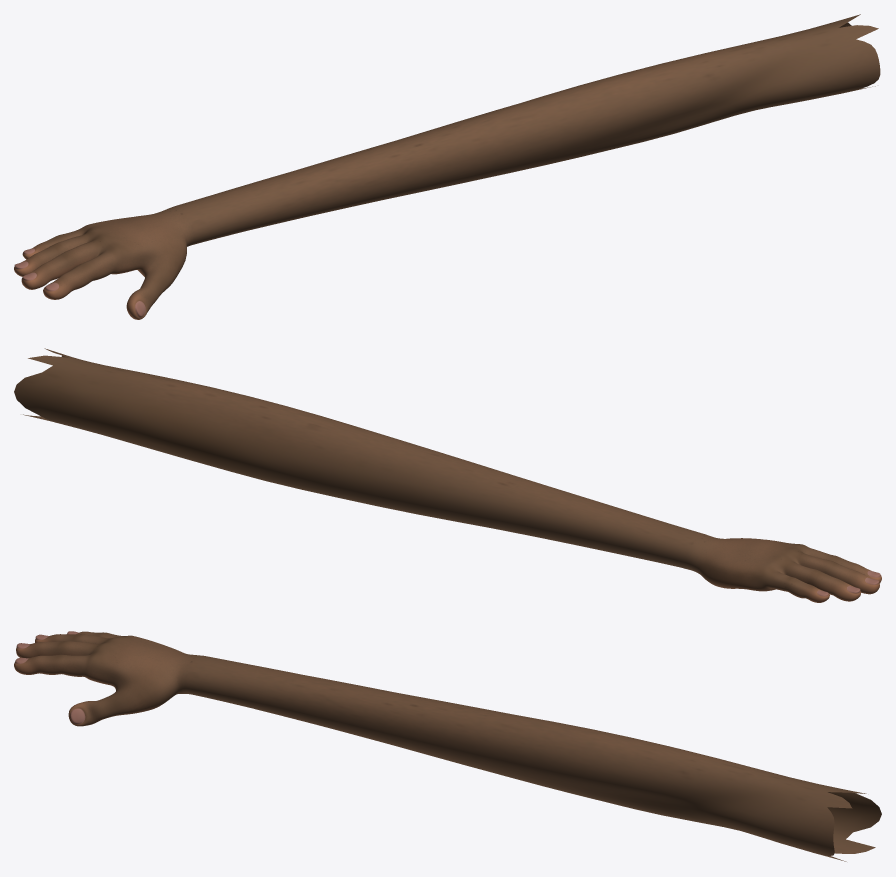
File: snow_fps.glb
3 views of the same model, one above another, from view 1: azimuth 30°, elevation 25°; view 2: azimuth 150°, elevation 25°; view 3: azimuth 330°, elevation 25° (orthographic). The views are drawn at different scales.
Parts seen in each view (by area): view 1: Snow-body_fps; view 2: Snow-body_fps; view 3: Snow-body_fps.
Boxes of the visible parts, left/top/right/bottom form: Snow-body_fps: left=14, top=14, right=880, bottom=319; Snow-body_fps: left=14, top=348, right=881, bottom=602; Snow-body_fps: left=14, top=631, right=881, bottom=861.
Bounding box in the file's own units: 1.2 × 0.1159 × 0.1547.
Materials: 2 (2 with a texture image).
